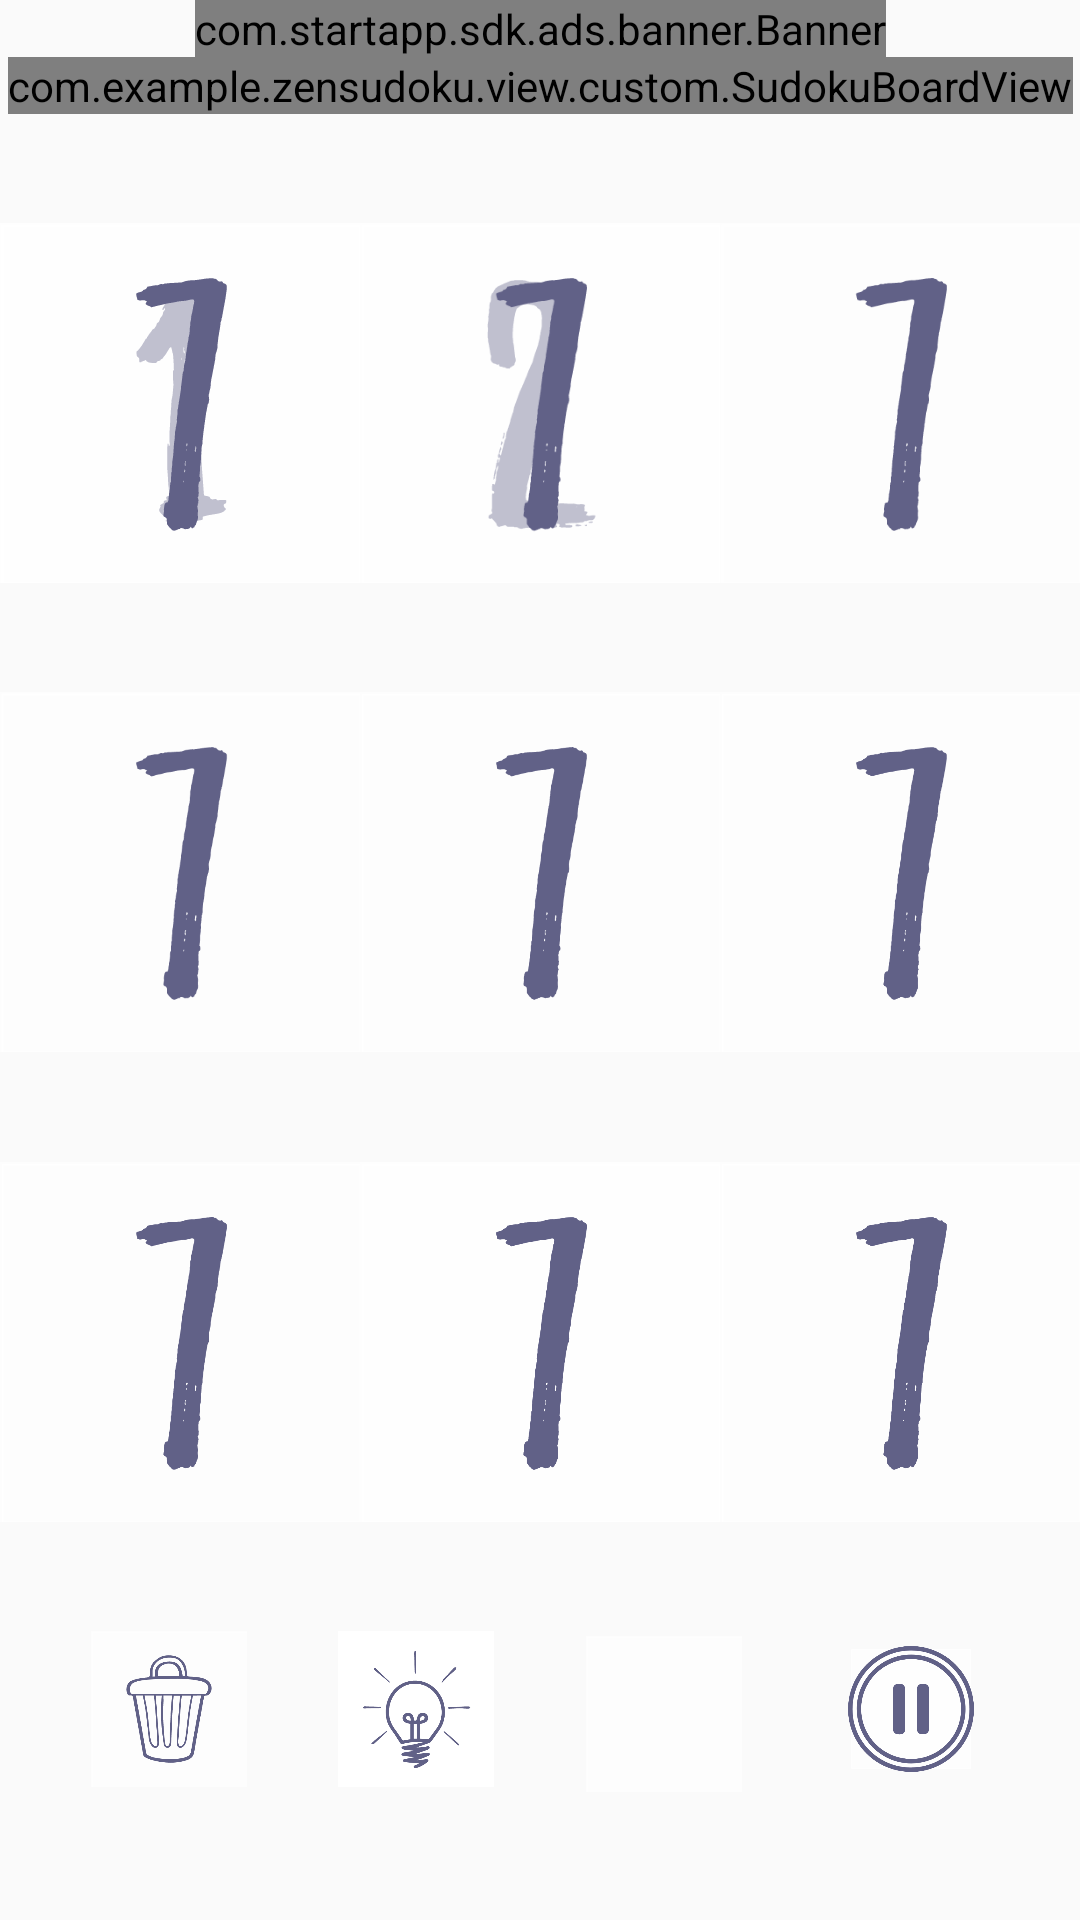

Screen size 1080px×1920px. Icon name, then its center in pixels as point (x, y):
delete: point (169, 1709)
hint: point (416, 1709)
pause: point (911, 1709)
